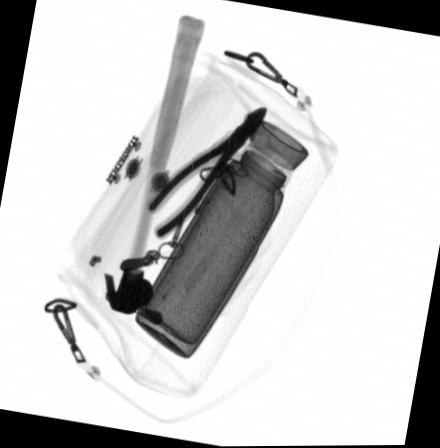Hammer: (102, 15, 204, 313)
Pliers: (145, 105, 266, 240)
